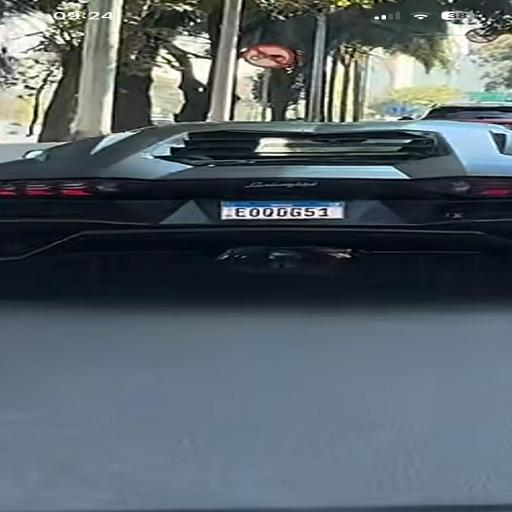detec-o-placas: (192, 187, 390, 243)
